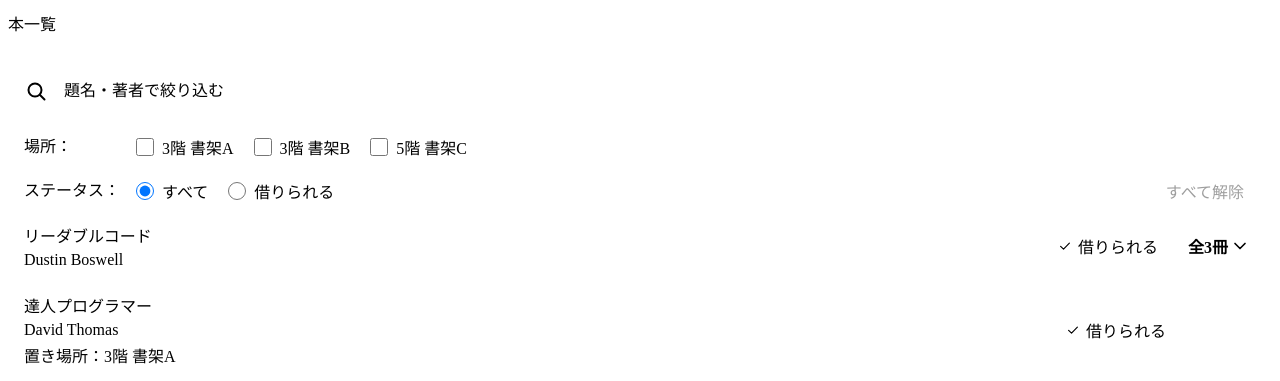
it: BookListPage の同じ本のまとまり › SB-46: まとまりの本を題名で絞り込んでも、まとまりのまま1行で表示する
In the search field labelled "題名・著者で絞り込む": (660, 91) x1=64 y1=82 x2=1256 y2=100, type "リーダブル"
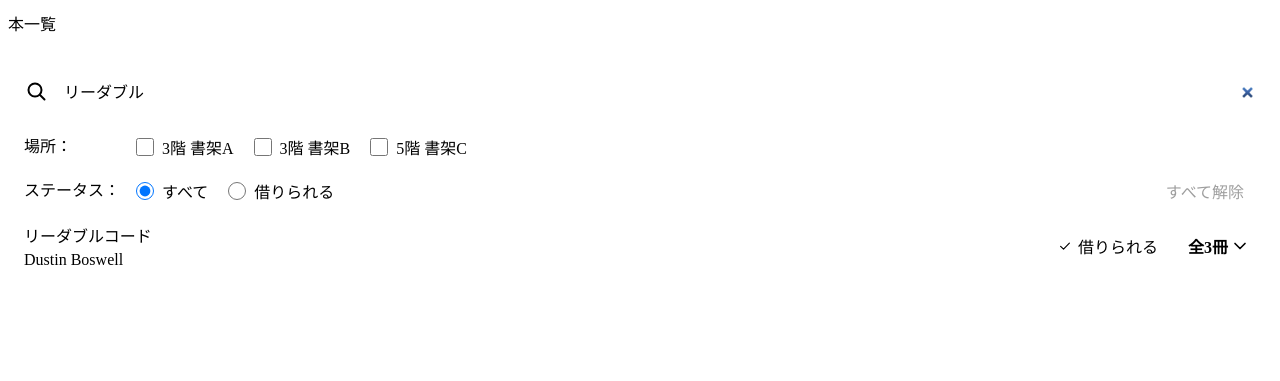
Expected: the number of buttons "リーダブルコード Dustin Boswell 借りられる 全3冊" is 1, x1=8 y1=211 x2=1272 y2=281
Expected: the link "達人プログラマー" is gone
